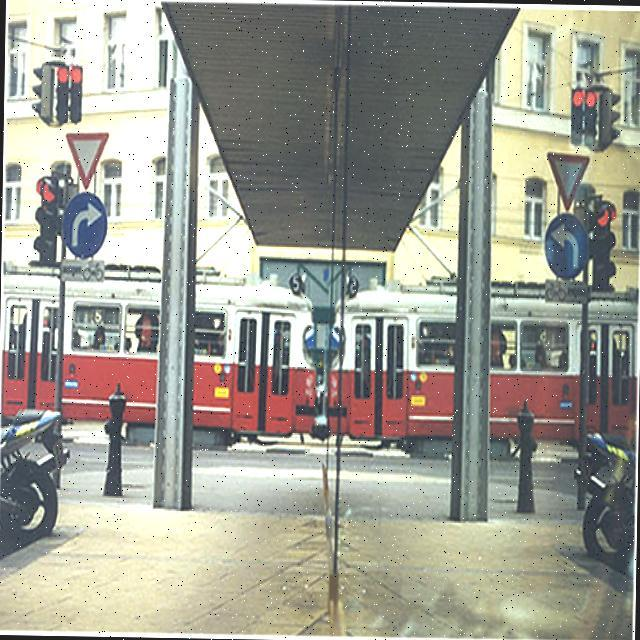fire_hydrant: (100, 377, 128, 501), (514, 398, 538, 512)
